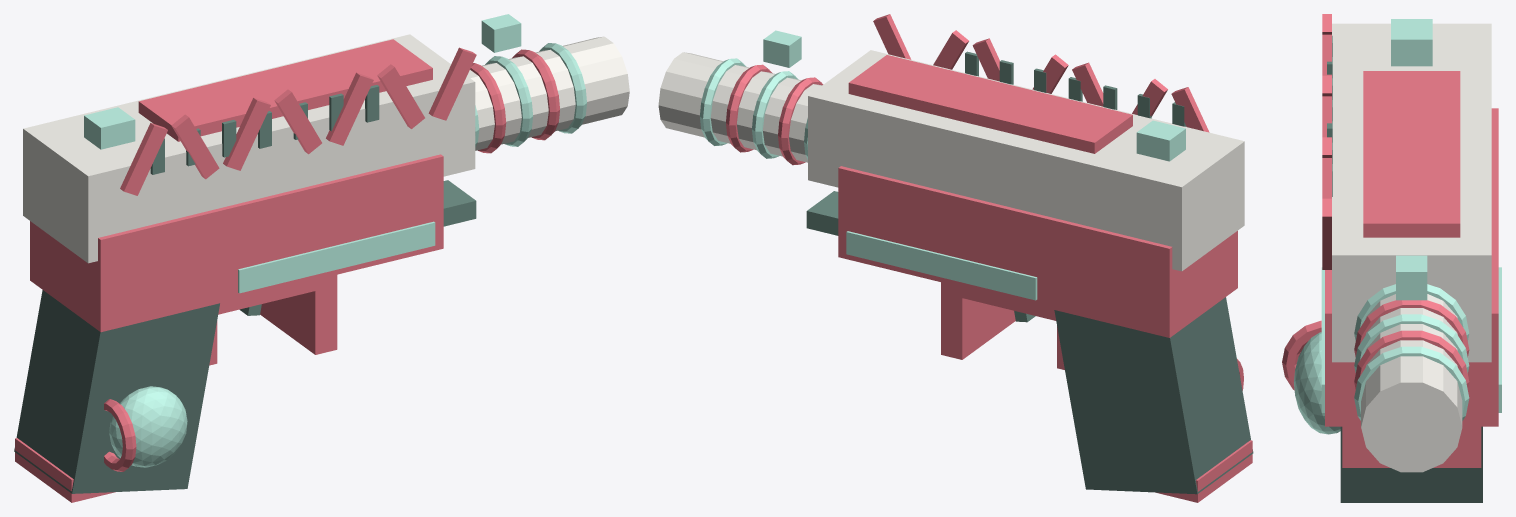
Rendered from halloween-pistol.glb.
3 renders of one model, left to right at view 1: azimuth 30°, elevation 25°; view 2: azimuth 150°, elevation 25°; view 3: azimuth 270°, elevation 25°, orthographic. The views are drawn at different scales.
Visible parts, largest first — view 1: SLIDE_ASSEMBLY, MAIN_BODY, GRIP_PANEL, SLIDE_TOP_RAIL, CANDY_BARREL, FRAME_RAIL, MINT_CANDY_CHARM, TRIGGER_GUARD_FRONT, REAR_SIGHT, GRIP_HEEL, PEPPERMINT_SWIRL_6, PEPPERMINT_SWIRL_0 (+13 smaller); view 2: SLIDE_ASSEMBLY, MAIN_BODY, GRIP_PANEL, SLIDE_TOP_RAIL, CANDY_BARREL, FRAME_RAIL, TRIGGER_GUARD_FRONT, REAR_SIGHT, GRIP_HEEL, FRONT_SIGHT, TRIGGER_GUARD_TOP, MINT_RIBBON_3 (+9 smaller); view 3: SLIDE_ASSEMBLY, SLIDE_TOP_RAIL, CANDY_BARREL, MAIN_BODY, GRIP_PANEL, TRIGGER_GUARD_FRONT, MINT_CANDY_CHARM, REAR_SIGHT, MINT_RIBBON_4, MINT_RIBBON_3, FRONT_SIGHT, MINT_RIBBON_2 (+8 smaller).
Part boxes in pixels (left/top/right/bottom): SLIDE_ASSEMBLY: left=23, top=34, right=475, bottom=263; MAIN_BODY: left=30, top=154, right=443, bottom=332; GRIP_PANEL: left=14, top=290, right=219, bottom=493; SLIDE_TOP_RAIL: left=138, top=39, right=432, bottom=141; CANDY_BARREL: left=467, top=36, right=629, bottom=150; FRAME_RAIL: left=238, top=221, right=435, bottom=293; MINT_CANDY_CHARM: left=109, top=386, right=187, bottom=467; TRIGGER_GUARD_FRONT: left=260, top=275, right=337, bottom=354; REAR_SIGHT: left=84, top=107, right=135, bottom=149; GRIP_HEEL: left=15, top=438, right=115, bottom=502; PEPPERMINT_SWIRL_6: left=428, top=47, right=476, bottom=120; PEPPERMINT_SWIRL_0: left=120, top=123, right=167, bottom=195; SLIDE_ASSEMBLY: left=808, top=50, right=1244, bottom=271; MAIN_BODY: left=838, top=166, right=1237, bottom=337; GRIP_PANEL: left=1054, top=297, right=1253, bottom=494; SLIDE_TOP_RAIL: left=848, top=55, right=1132, bottom=153; CANDY_BARREL: left=658, top=52, right=821, bottom=162; FRAME_RAIL: left=846, top=231, right=1037, bottom=300; TRIGGER_GUARD_FRONT: left=941, top=282, right=1015, bottom=359; REAR_SIGHT: left=1136, top=120, right=1185, bottom=161; GRIP_HEEL: left=1155, top=440, right=1252, bottom=502; FRONT_SIGHT: left=763, top=30, right=801, bottom=67; TRIGGER_GUARD_TOP: left=949, top=284, right=1056, bottom=320; MINT_RIBBON_3: left=726, top=64, right=772, bottom=152; SLIDE_ASSEMBLY: left=1332, top=23, right=1491, bottom=362; SLIDE_TOP_RAIL: left=1363, top=71, right=1460, bottom=237; CANDY_BARREL: left=1361, top=294, right=1462, bottom=472; MAIN_BODY: left=1325, top=108, right=1498, bottom=426; GRIP_PANEL: left=1340, top=426, right=1482, bottom=502; TRIGGER_GUARD_FRONT: left=1342, top=426, right=1481, bottom=467; MINT_CANDY_CHARM: left=1293, top=332, right=1340, bottom=434; REAR_SIGHT: left=1391, top=19, right=1432, bottom=66; MINT_RIBBON_4: left=1354, top=346, right=1469, bottom=420; MINT_RIBBON_3: left=1354, top=330, right=1469, bottom=389; FRONT_SIGHT: left=1396, top=255, right=1427, bottom=300; MINT_RIBBON_2: left=1354, top=314, right=1469, bottom=373.
Size of the model in its own units: 1.16 by 0.7388 by 0.317.
